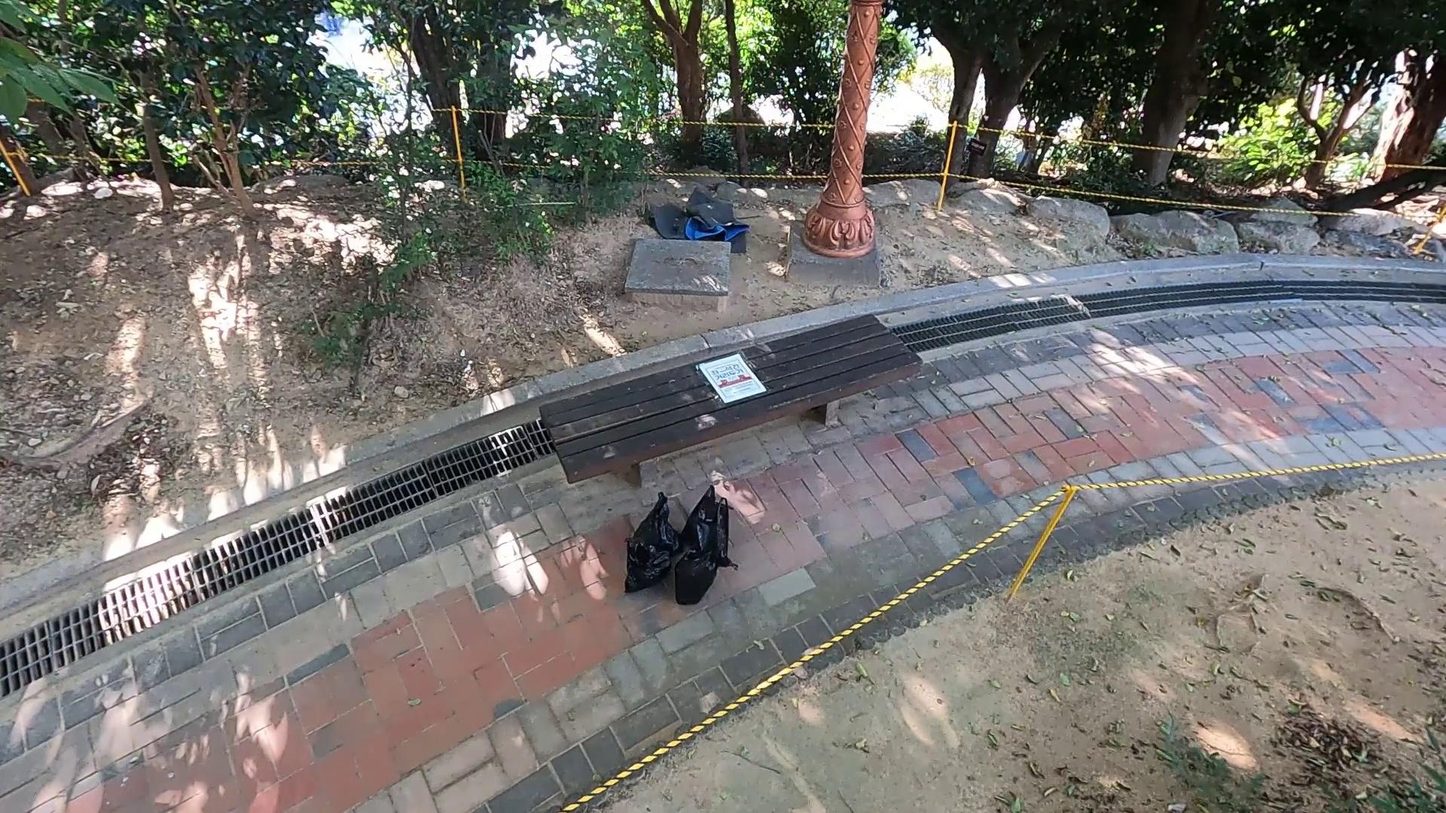trash: (643, 186, 751, 263), (672, 533, 740, 607), (680, 483, 734, 562), (630, 492, 684, 561), (621, 538, 672, 593)
